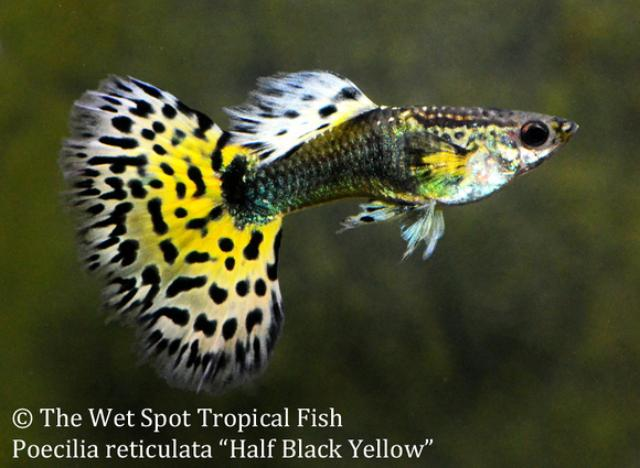Mulut: (522, 100, 600, 170)
Sirip Anal: (322, 183, 400, 243)
Sirip Dada: (391, 120, 481, 206)
Sirip Perut: (389, 196, 451, 272)
Sirip Punggung: (44, 60, 296, 404), (214, 52, 386, 168)
